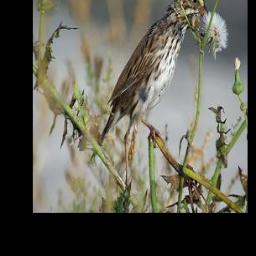Sparrow: (90, 0, 210, 161)
